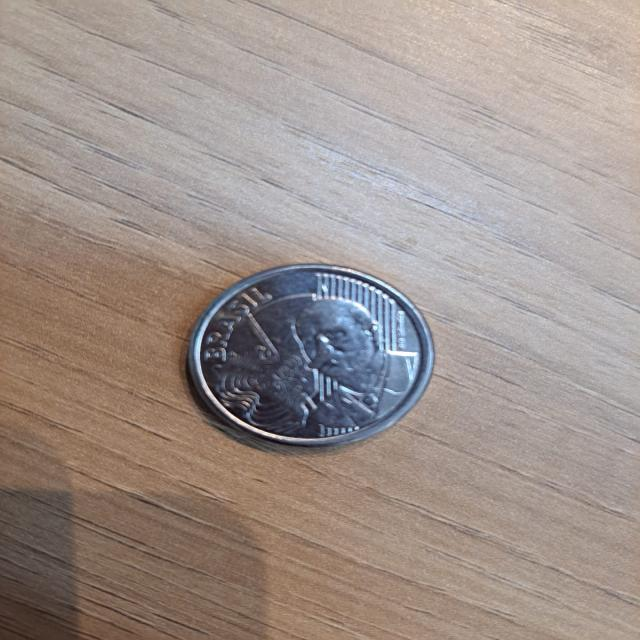50 cents: (155, 250, 461, 456)
